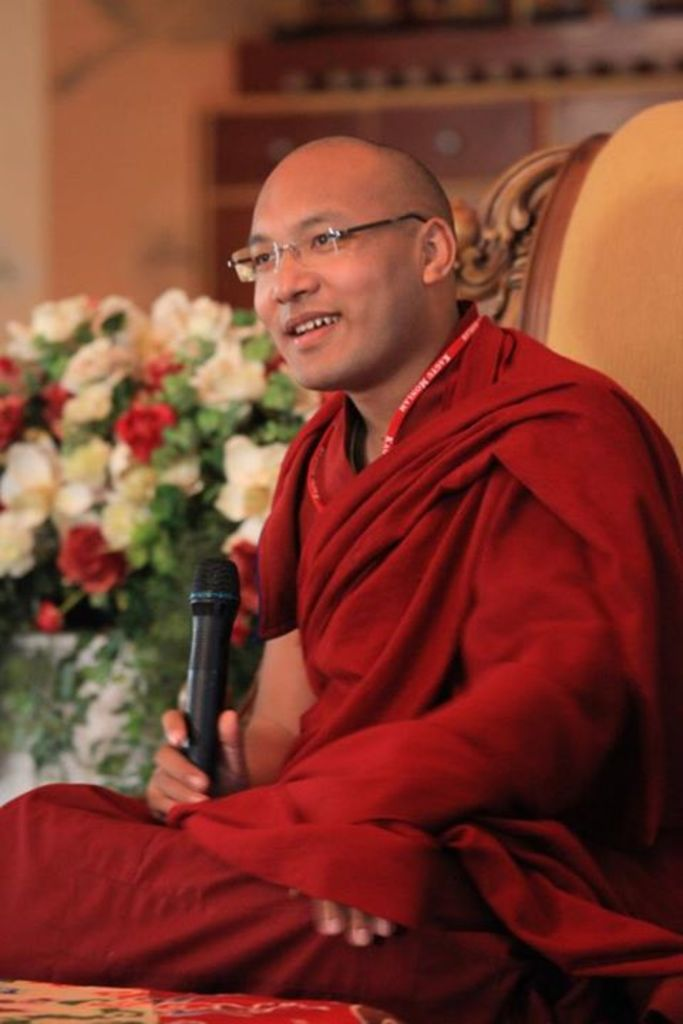Person: (0, 135, 683, 1023)
